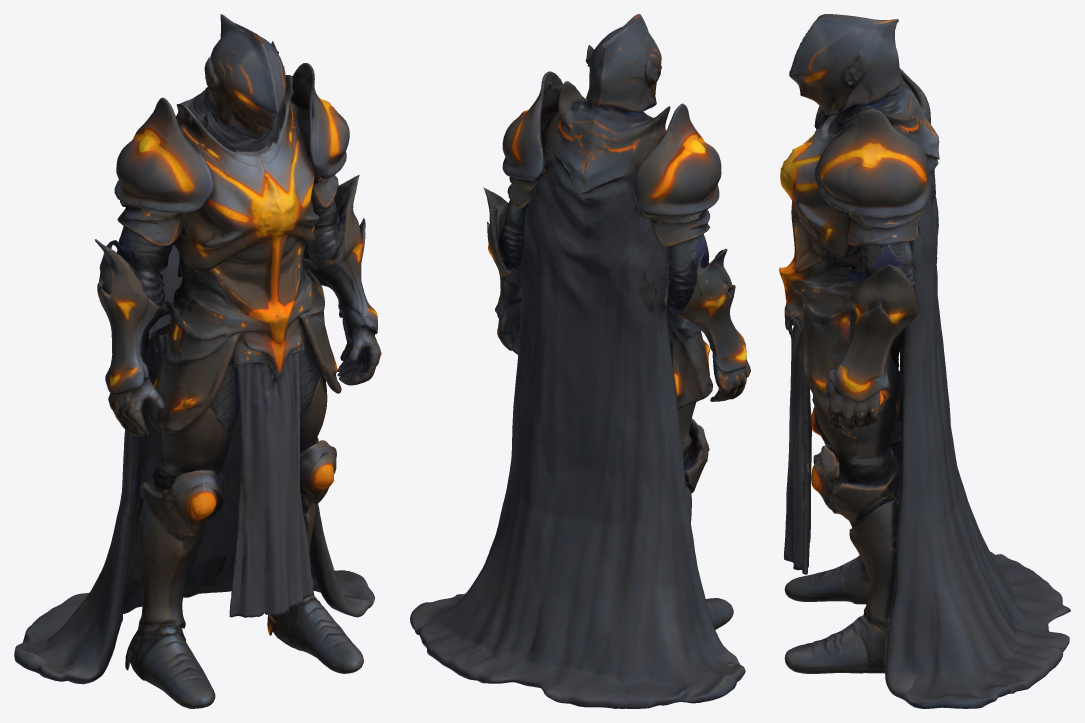
The model's file is Meshy_AI_Inferno_Knight_1115232943_texture.glb.
3 views of the same model, side by side, from view 1: azimuth 30°, elevation 25°; view 2: azimuth 150°, elevation 25°; view 3: azimuth 270°, elevation 25° (orthographic). The views are drawn at different scales.
Bounding box in the file's own units: 1.11 × 2 × 0.8506.
1 material, 1 textured.
